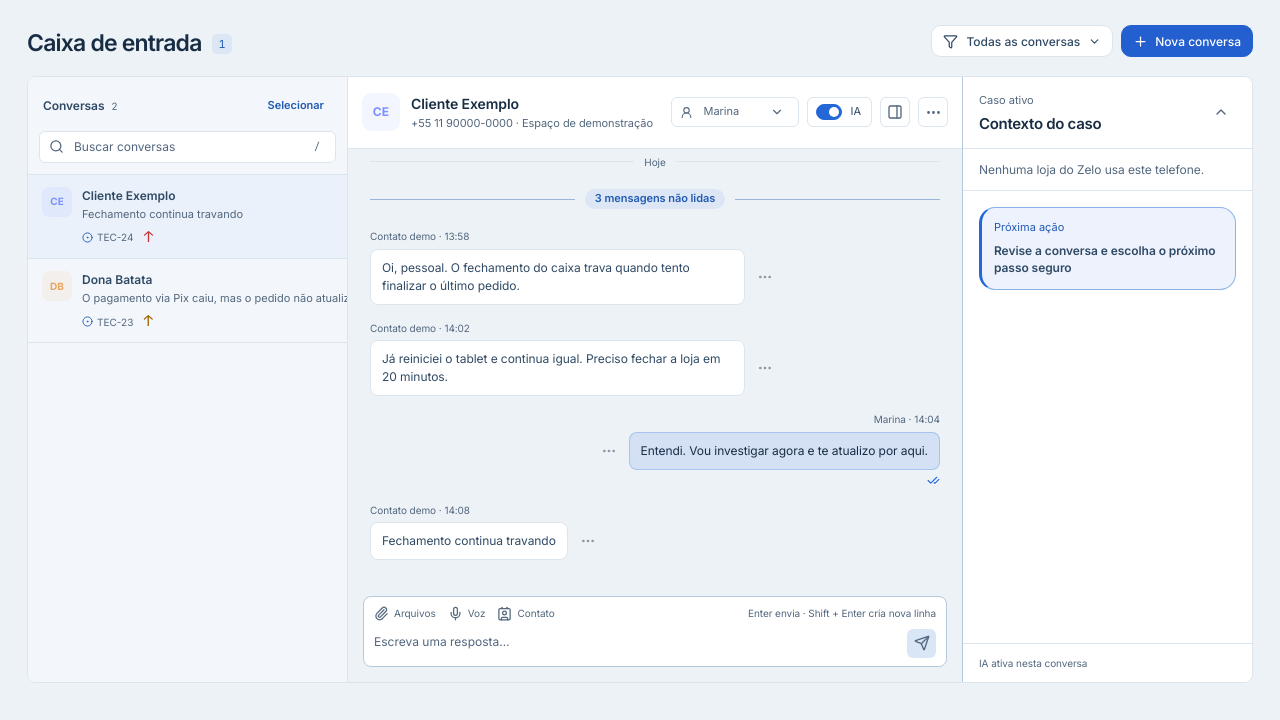
it: InboxPage new chat › keeps a stopped voice recording pending instead of sending it
The image size is (1280, 720).
(page scrolled)
Click the button with class "composer-tool" showing "Voz" at (467, 613), box top-left (448, 606), bottom-right (486, 621)
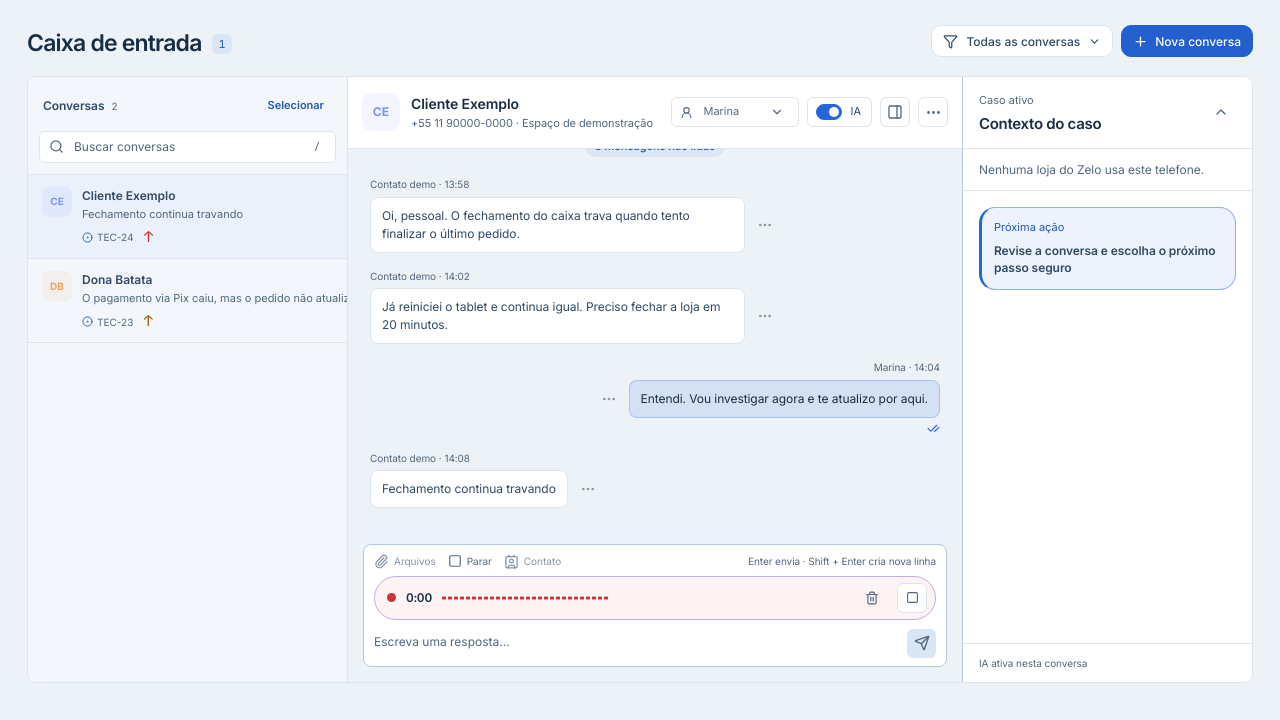
Check: the message with class "recording-indicator" reads "0:00", box top-left (406, 590), bottom-right (432, 605)
Click the button named "Descartar gravação" at (872, 598), box top-left (857, 583), bottom-right (887, 613)
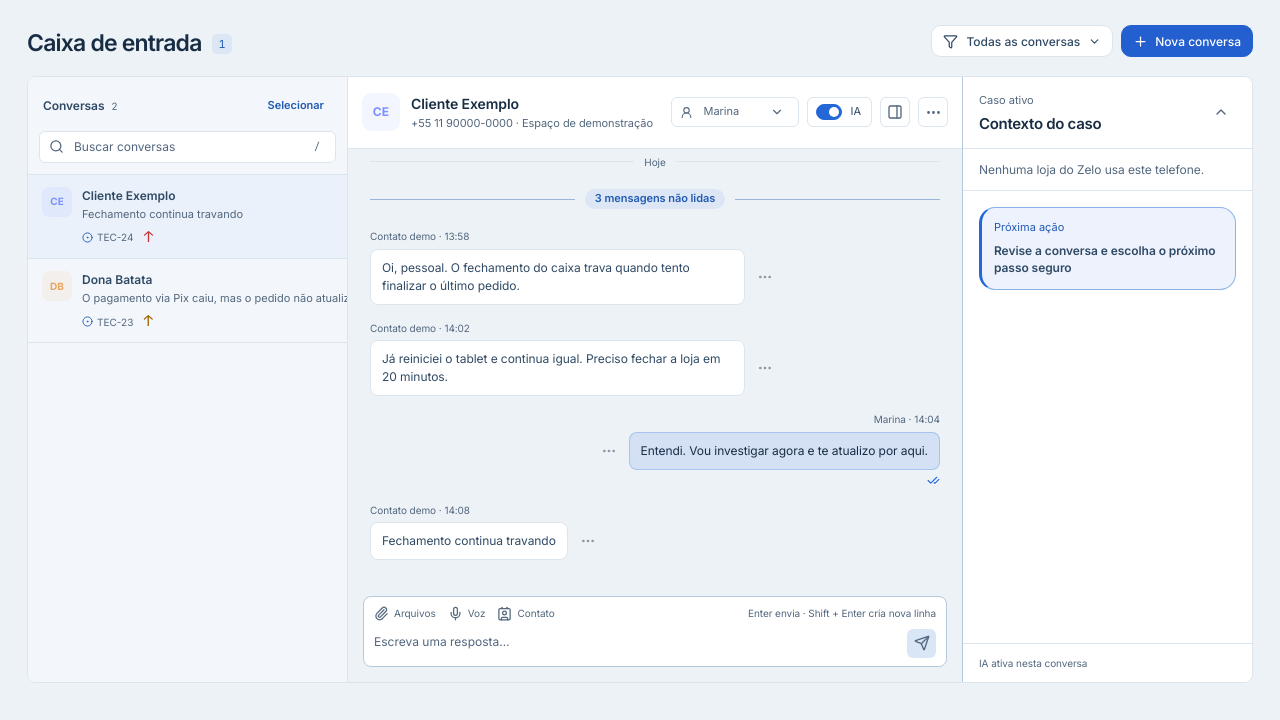
Check: the message with class "recording-indicator" is gone
Click the button with class "composer-tool" showing "Voz" at (467, 613), box top-left (448, 606), bottom-right (486, 621)
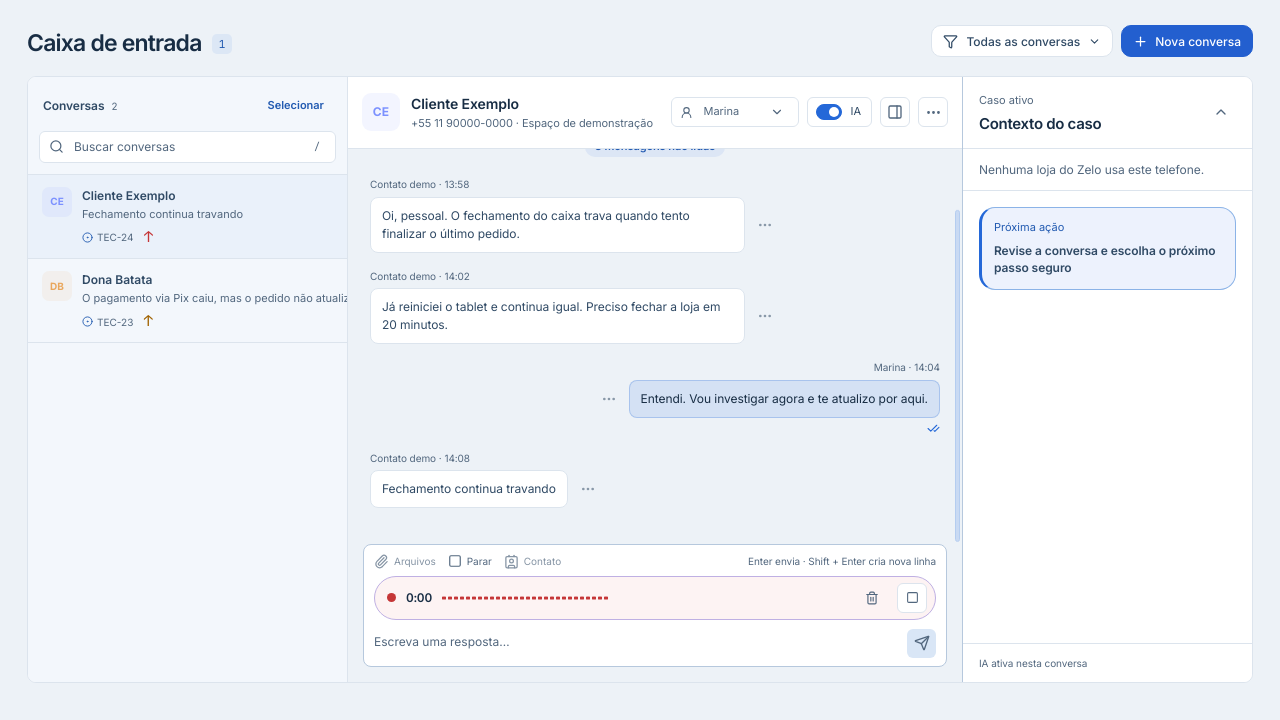
Click the button with class "composer-tool" showing "Parar" at (470, 561), box top-left (448, 554), bottom-right (492, 568)
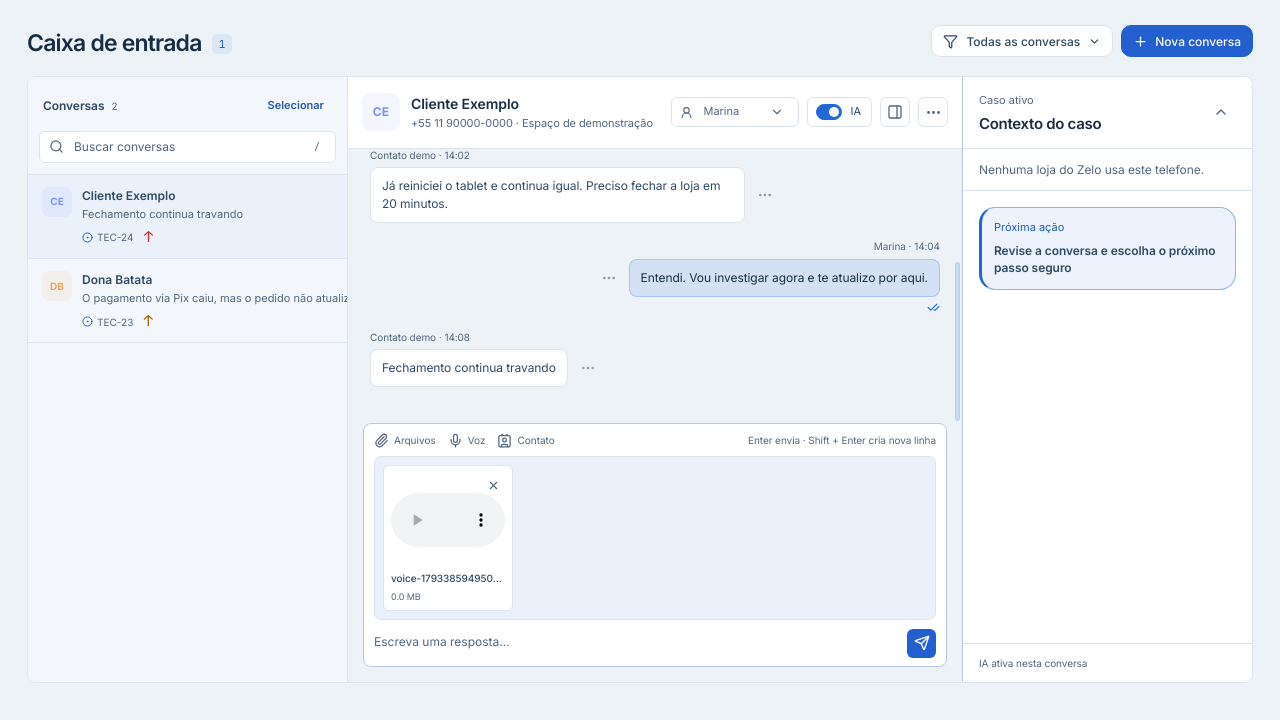
Check: the button with class "send-button" is enabled, box top-left (907, 629), bottom-right (936, 658)
